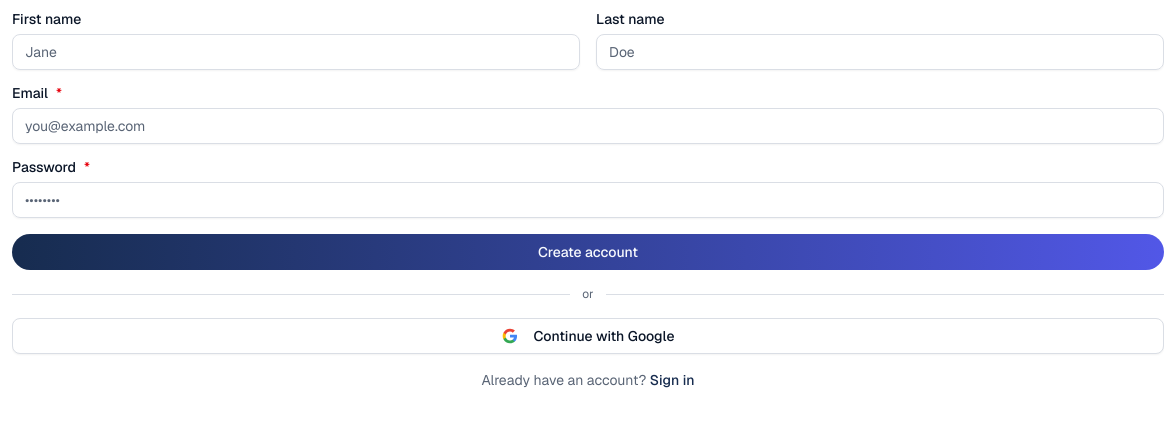
Test: SignupForm › displays error message on failed signup
Step 1. Type "existing@example.com" into the field labelled "Email *" → [588, 126], box [12,108,1164,144]
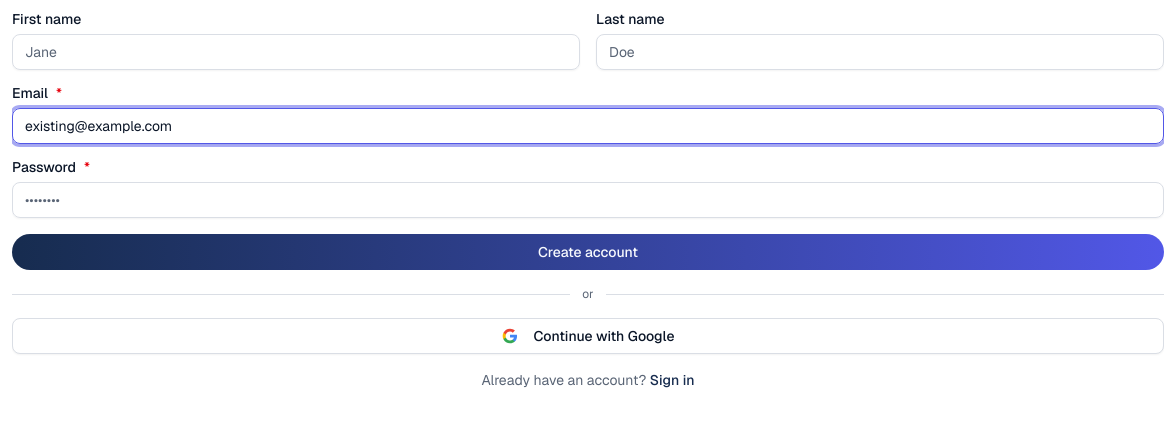
Step 2. Type "password123" into the password field labelled "Password *" → [588, 200], box [12,182,1164,218]
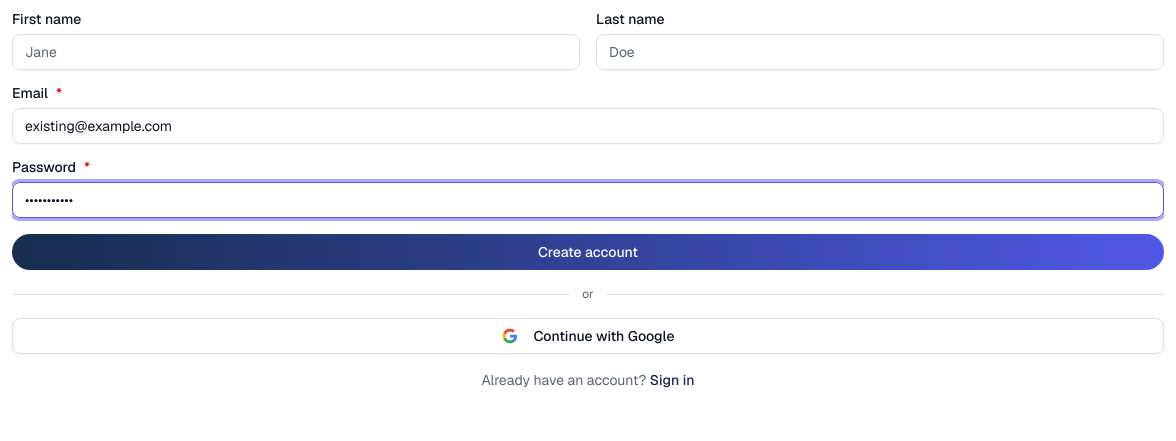
Step 3. Click the button "Create account" → [588, 252], box [12,234,1164,270]
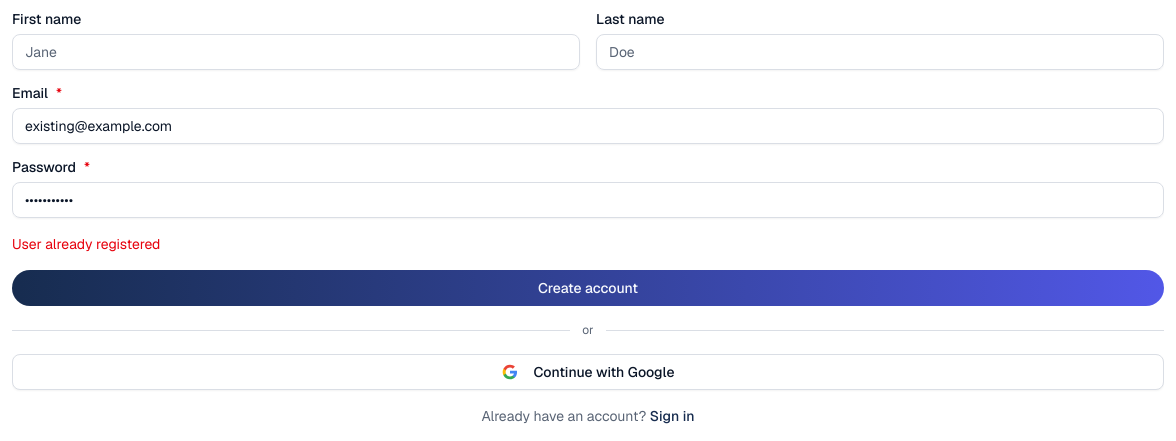
Result: the text "User already registered" is shown at [12,235,160,253]
